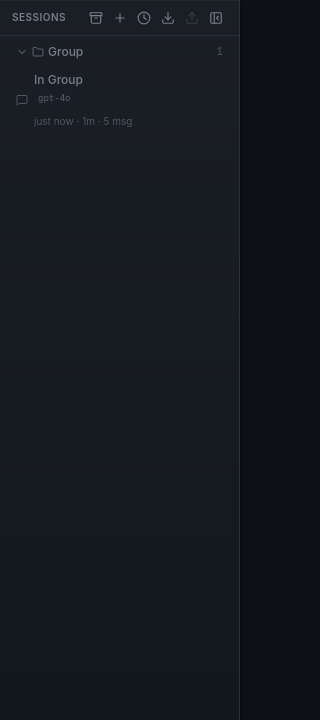
Test case: Sidebar — session groups › expands group on second chevron click
Click the text "Group": (66, 52) [8,40,231,64]
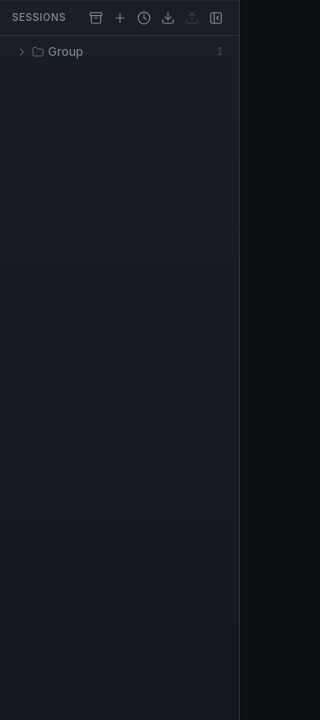
Check: the button "In Group" is gone
Click the text "Group": (66, 52) [8,40,231,64]
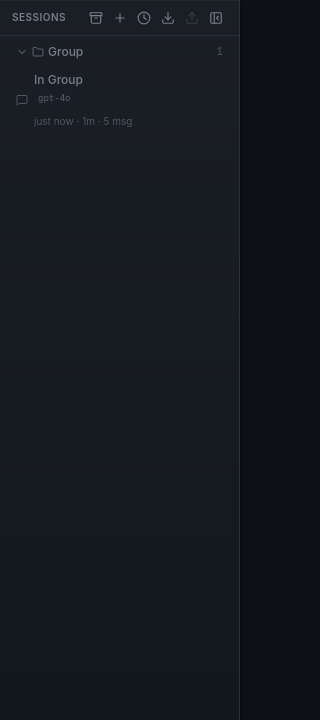
Check: the text "In Group" is shown, box [34,72,83,87]
